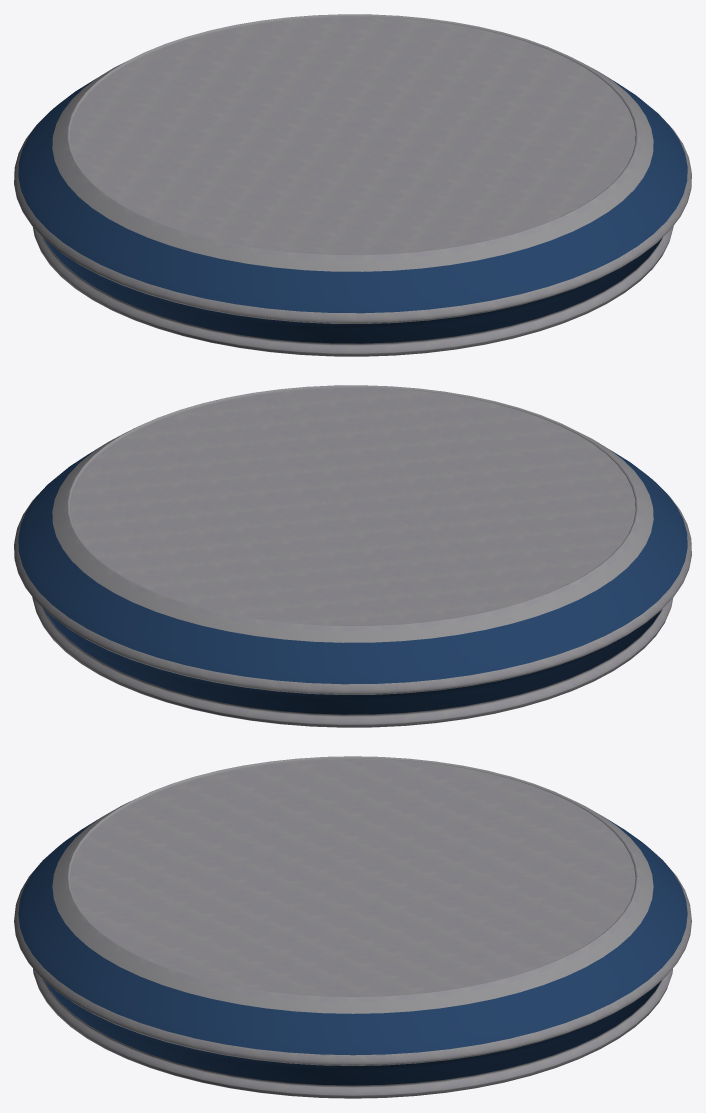
Rendered from SM_Floor08.fbx.
The picture shows the model from 3 angles, top to bottom: view 1: azimuth 30°, elevation 25°; view 2: azimuth 150°, elevation 25°; view 3: azimuth 270°, elevation 25°; orthographic projection.
Parts seen in each view (by area): view 1: SM_Floor08_LOD0; view 2: SM_Floor08_LOD0; view 3: SM_Floor08_LOD0.
Boxes of the visible parts, x1,y1,x2,y2 form: SM_Floor08_LOD0: [14, 14, 691, 356]; SM_Floor08_LOD0: [14, 385, 691, 727]; SM_Floor08_LOD0: [14, 756, 691, 1098].
Size of the model in its own units: 7000 by 7000 by 1000.
3 materials, 3 textured.
